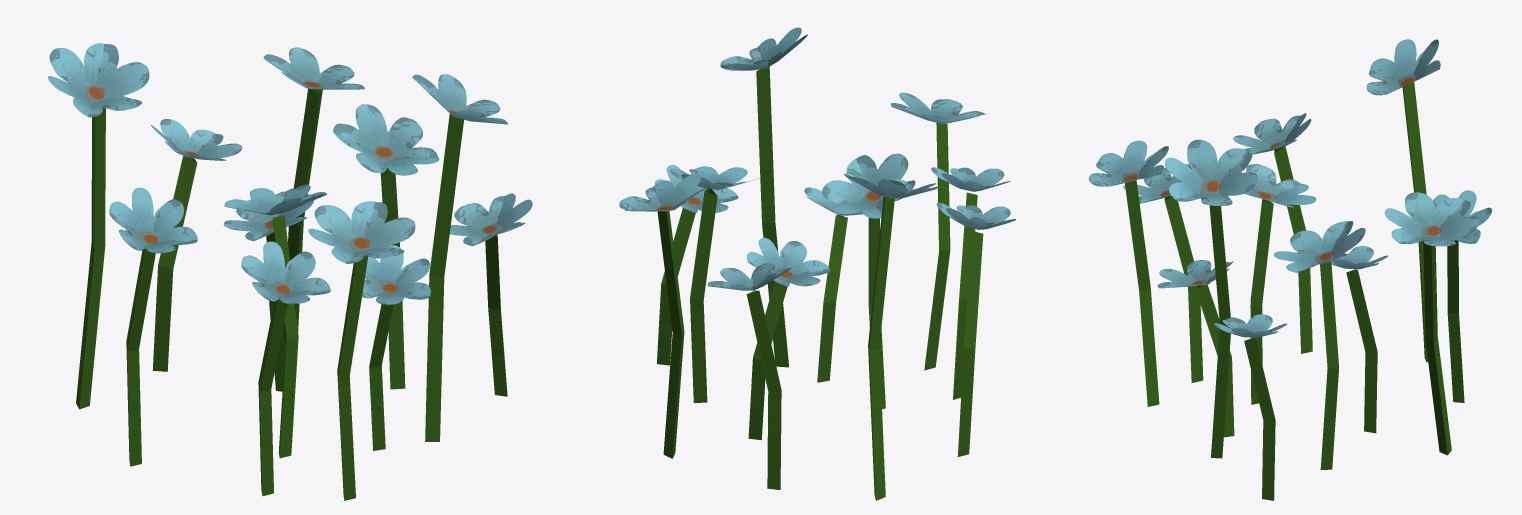
File: FlowerBlue.fbx
The picture shows the model from 3 angles, left to right: view 1: azimuth 30°, elevation 25°; view 2: azimuth 150°, elevation 25°; view 3: azimuth 270°, elevation 25°; orthographic projection. The views are drawn at different scales.
Visible parts, largest first — view 1: Flower_Blue; view 2: Flower_Blue; view 3: Flower_Blue.
Part boxes in pixels (<box>): Flower_Blue: <box>47,43,532,500</box>; Flower_Blue: <box>619,27,1015,500</box>; Flower_Blue: <box>1089,39,1491,500</box>.
Size of the model in its own units: 0.5384 by 0.4547 by 0.5592.
